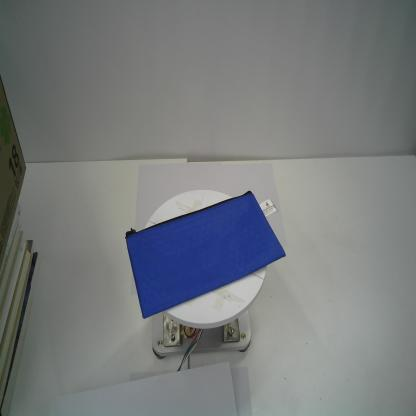Stationery: (124, 187, 288, 320)
